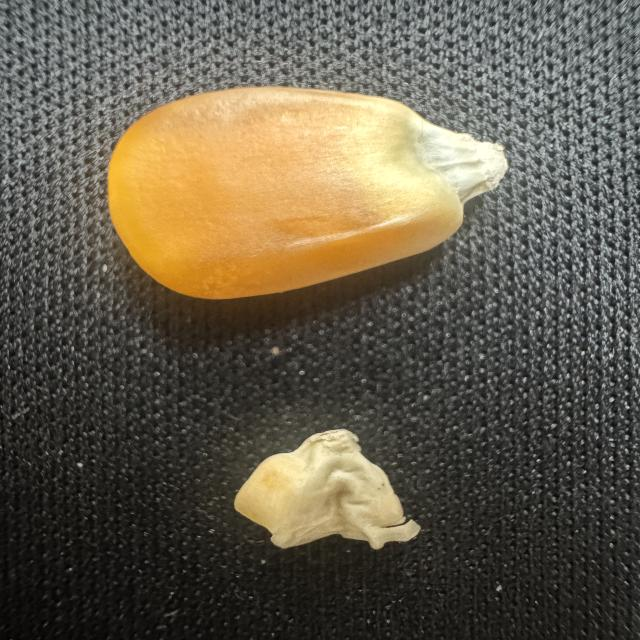Bad-Seed: (218, 421, 422, 569)
Good-Seed: (96, 78, 514, 303)
